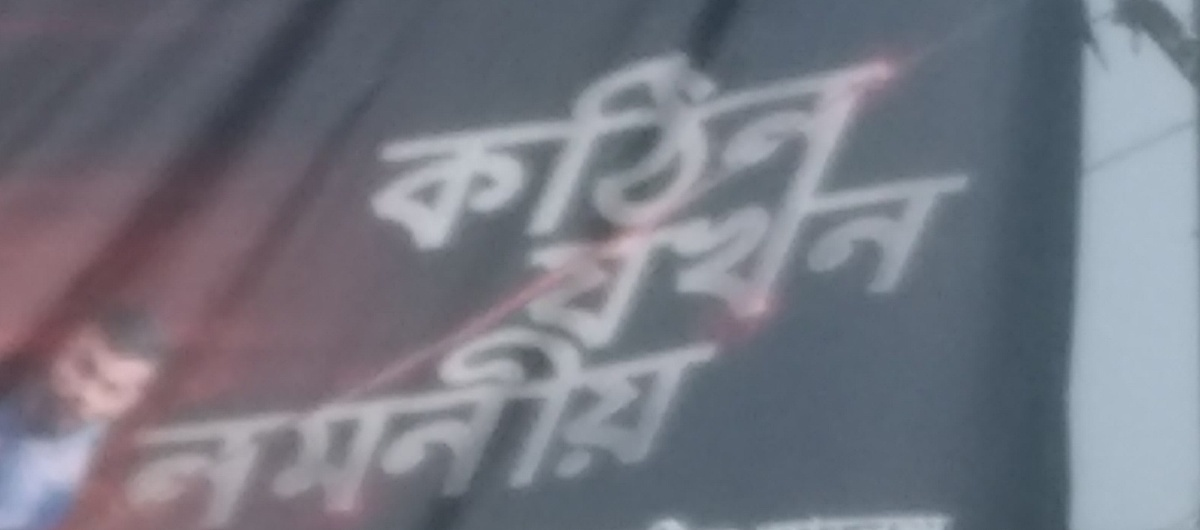text: (369, 13, 384, 280), (385, 13, 400, 280), (401, 13, 416, 280), (417, 13, 432, 280), (433, 13, 448, 280), (449, 13, 464, 280), (465, 13, 480, 280), (481, 13, 496, 280), (497, 13, 512, 280), (513, 13, 528, 280), (529, 13, 544, 280), (545, 13, 560, 280), (561, 13, 576, 280), (577, 13, 592, 280), (593, 13, 608, 280), (609, 13, 624, 280), (625, 13, 640, 280), (641, 13, 656, 280), (657, 13, 672, 280), (673, 13, 688, 280), (689, 13, 704, 280), (705, 13, 720, 280), (721, 13, 736, 280), (737, 13, 752, 280), (753, 13, 768, 280), (769, 13, 784, 280), (785, 13, 800, 280), (801, 13, 816, 280), (817, 13, 832, 280), (833, 13, 848, 280), (849, 13, 864, 280), (865, 13, 880, 280), (881, 13, 896, 280), (113, 291, 128, 529), (129, 291, 144, 529), (145, 291, 160, 529), (161, 291, 176, 529), (177, 291, 192, 529), (193, 291, 208, 529), (209, 291, 224, 529), (225, 291, 240, 529), (241, 291, 256, 529), (257, 291, 272, 529), (273, 291, 288, 529), (289, 291, 304, 529), (305, 291, 320, 529), (321, 291, 336, 529), (337, 291, 352, 529), (353, 291, 368, 529), (369, 291, 384, 529), (385, 291, 400, 529), (401, 291, 416, 529), (417, 291, 432, 529), (433, 291, 448, 529), (449, 291, 464, 529), (465, 291, 480, 529), (481, 291, 496, 529), (497, 291, 512, 529), (513, 291, 528, 529), (529, 291, 544, 529), (545, 291, 560, 529), (561, 291, 576, 529), (577, 291, 592, 529), (593, 291, 608, 529), (609, 291, 624, 529), (625, 291, 640, 529), (641, 291, 656, 529), (657, 291, 672, 529), (673, 291, 688, 529), (689, 291, 704, 529), (705, 291, 720, 529), (721, 291, 736, 529), (737, 291, 751, 529), (529, 156, 544, 366), (545, 156, 560, 366), (561, 156, 576, 366), (577, 156, 592, 366), (593, 156, 608, 366), (609, 156, 624, 366), (625, 156, 640, 366), (641, 156, 656, 366), (657, 156, 672, 366), (673, 156, 688, 366), (689, 156, 704, 366), (705, 156, 720, 366), (721, 156, 736, 366), (737, 156, 752, 366), (753, 156, 768, 366), (769, 156, 784, 366), (785, 156, 800, 366), (801, 156, 816, 366), (817, 156, 832, 366), (833, 156, 848, 366), (849, 156, 864, 366), (865, 156, 880, 366), (881, 156, 896, 366), (897, 156, 912, 366), (913, 156, 928, 366), (929, 156, 944, 366), (945, 156, 960, 366), (961, 156, 976, 366), (977, 156, 991, 366), (358, 13, 368, 280), (897, 13, 906, 280), (520, 156, 528, 366), (737, 504, 752, 529), (753, 504, 768, 529), (769, 504, 784, 529), (785, 504, 800, 529), (801, 504, 816, 529), (817, 504, 832, 529), (833, 504, 848, 529), (849, 504, 864, 529), (865, 504, 880, 529), (881, 504, 896, 529), (897, 504, 912, 529), (913, 504, 928, 529), (929, 504, 944, 529), (945, 504, 957, 529)
